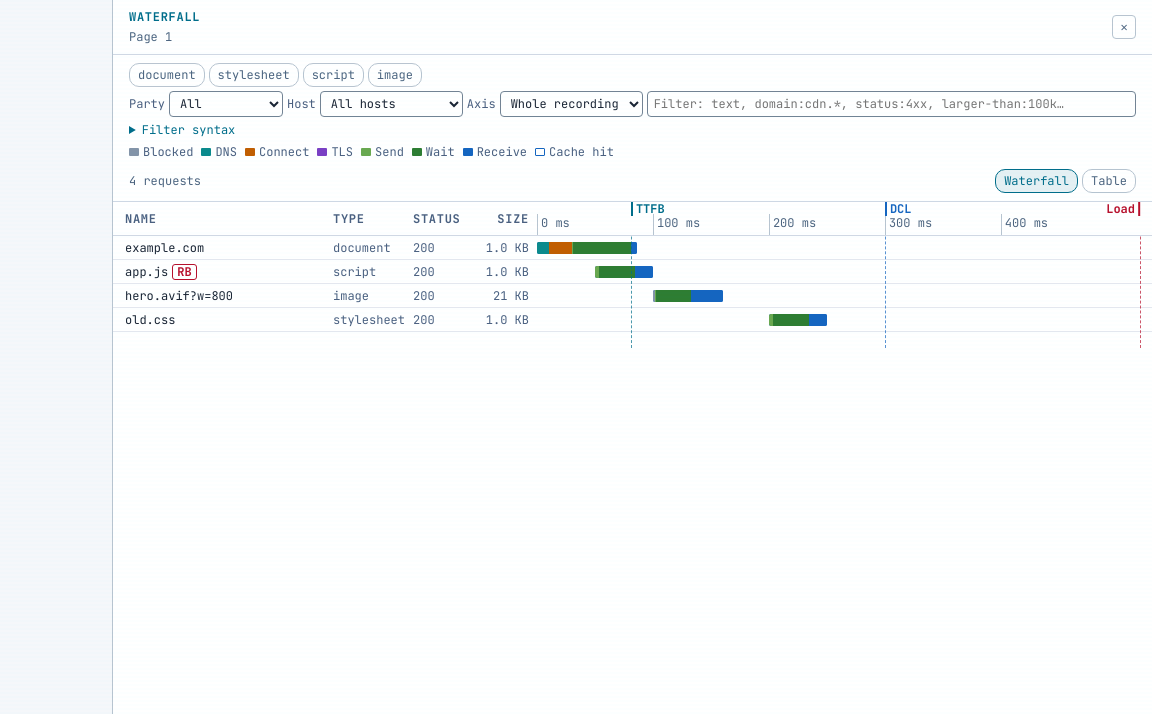
Test: WaterfallPanel: the detail of a request › copies a header list as lines and says so
The width and height of the screenshot is (1152, 714).
Click the button "hero.avif?w=800 image 200 21 KB" at (179, 296), box [113,284,1151,308]
(page scrolled)
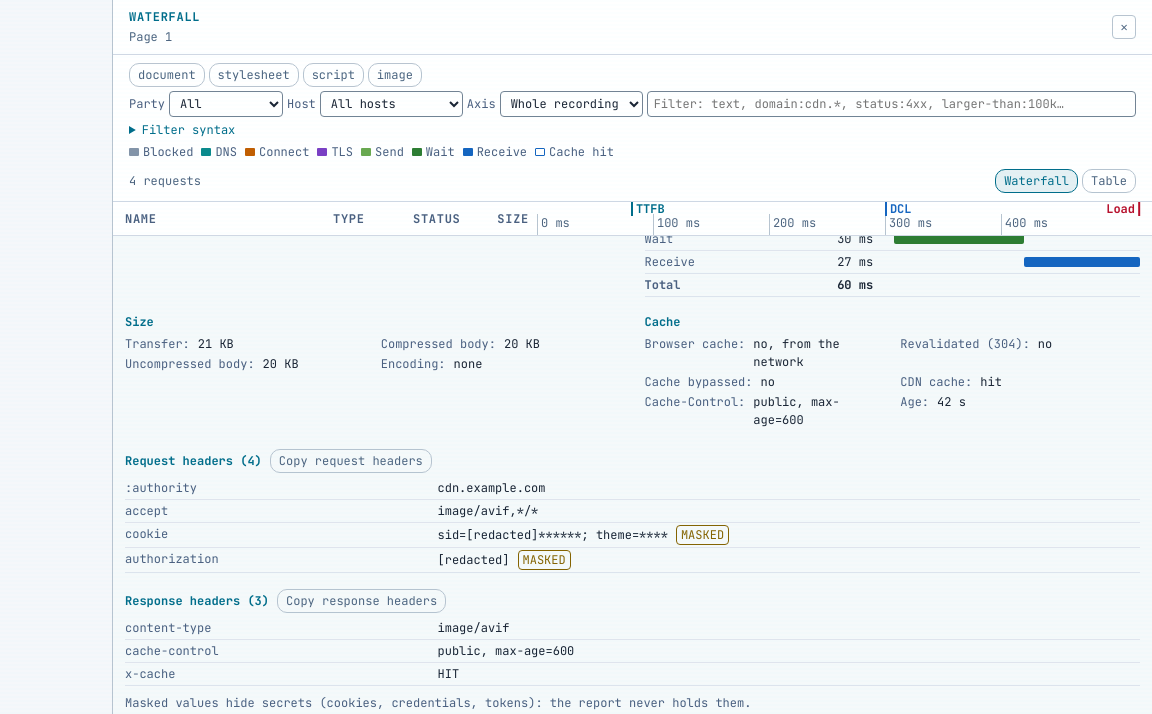
Click the button "Copy request headers" at (351, 461), box [270,449,432,473]
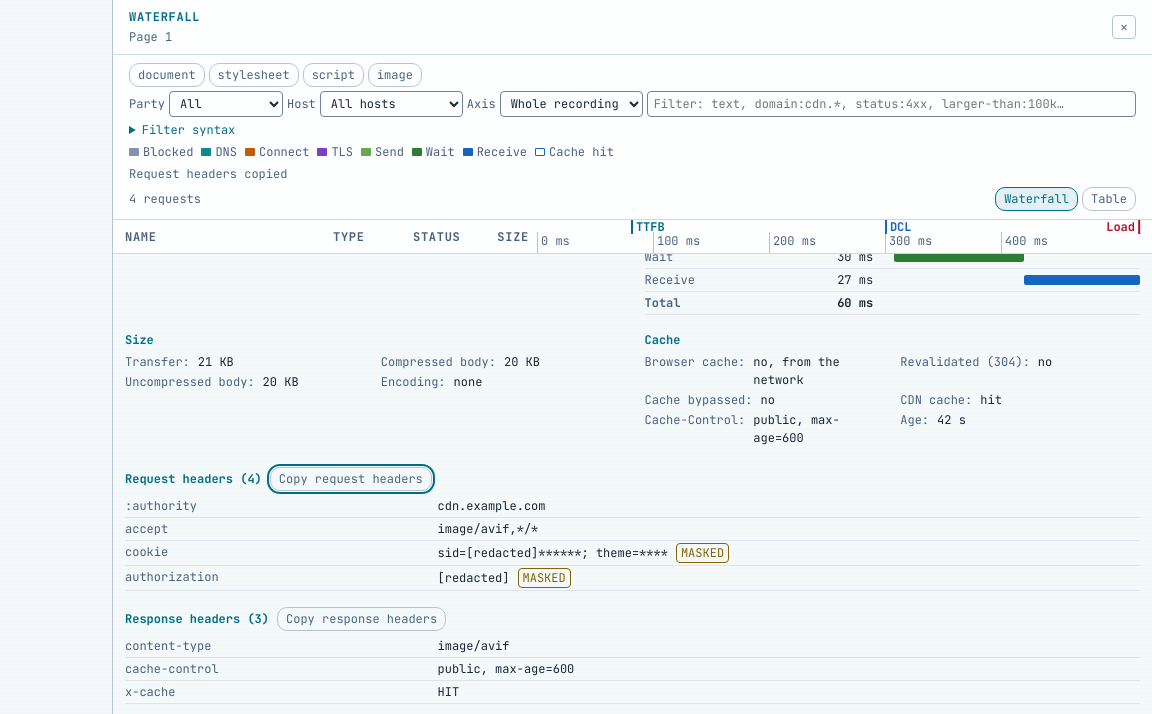
Now the text "Request headers copied" is shown, box [129,166,287,182]
Click the button "Copy response headers" at (362, 619), box [277,607,446,631]
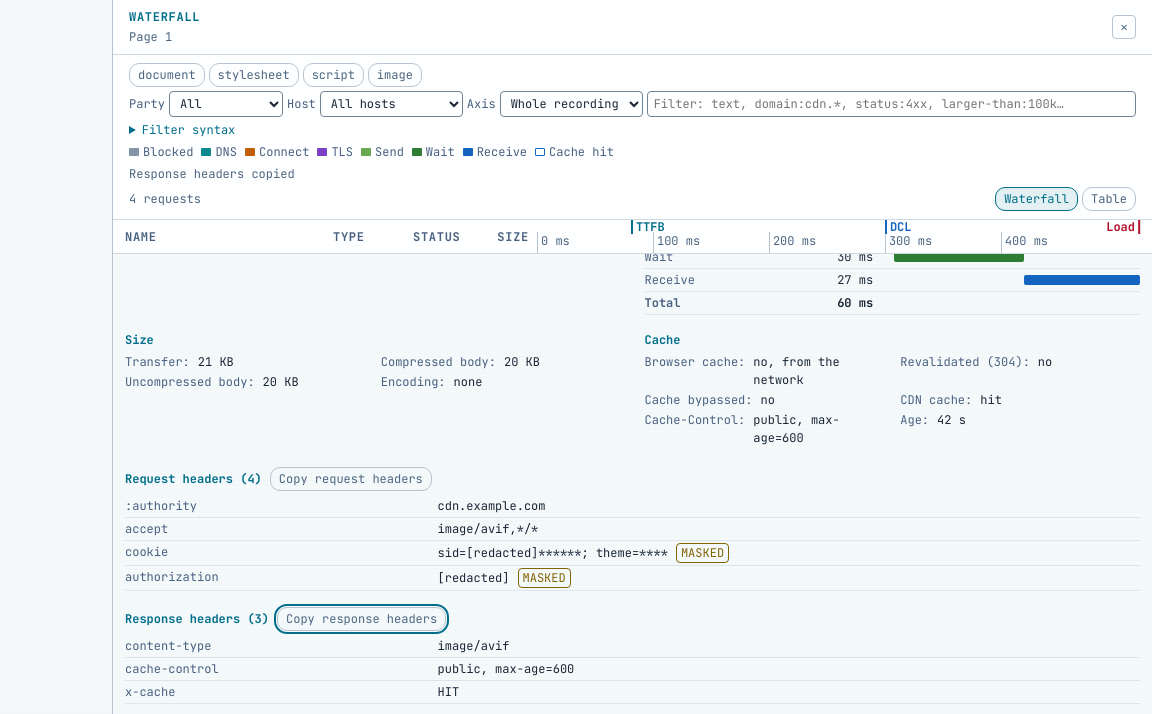
Now the text "Response headers copied" is shown, box [129,166,295,182]
